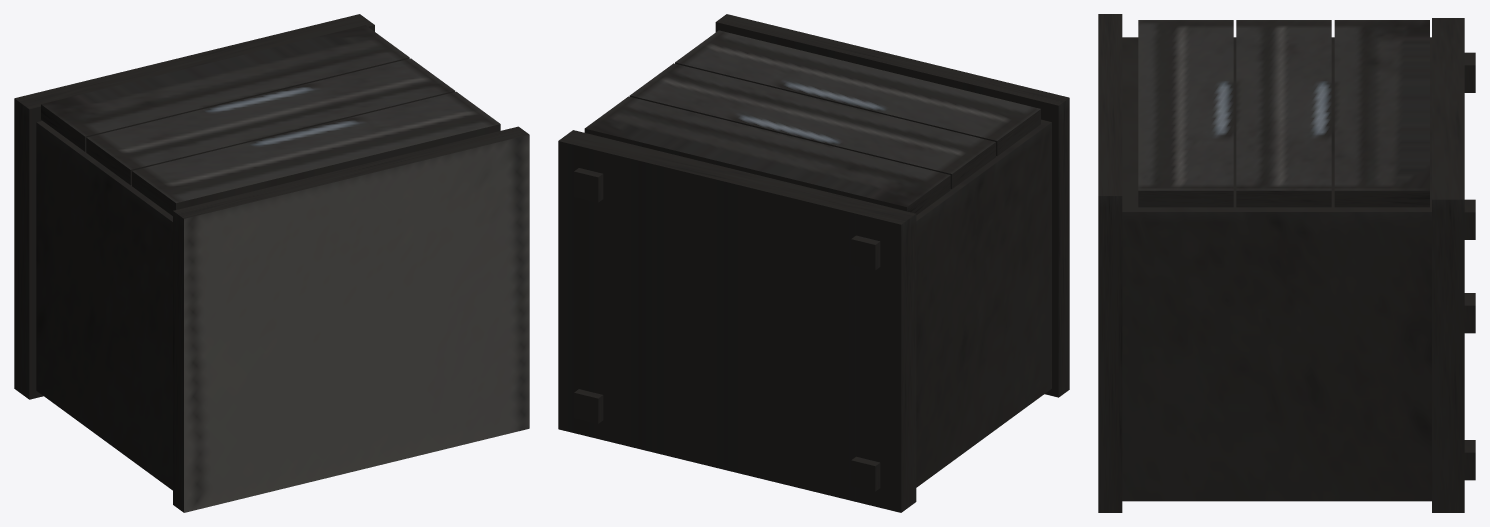
File: pz_drawer_storage_01_dark_fancy.obj
The picture shows the model from 3 angles, left to right: view 1: azimuth 30°, elevation 25°; view 2: azimuth 150°, elevation 25°; view 3: azimuth 270°, elevation 25°; orthographic projection. The views are drawn at different scales.
Visible parts, largest first — view 1: root; view 2: root; view 3: root.
Boxes of the visible parts, x1,y1,x2,y2 form: root: (14,14,529,512); root: (558,14,1069,512); root: (1098,14,1475,512).
Size of the model in its own units: 0.99 by 0.805 by 0.8675.
Materials: 1 (1 with a texture image).
